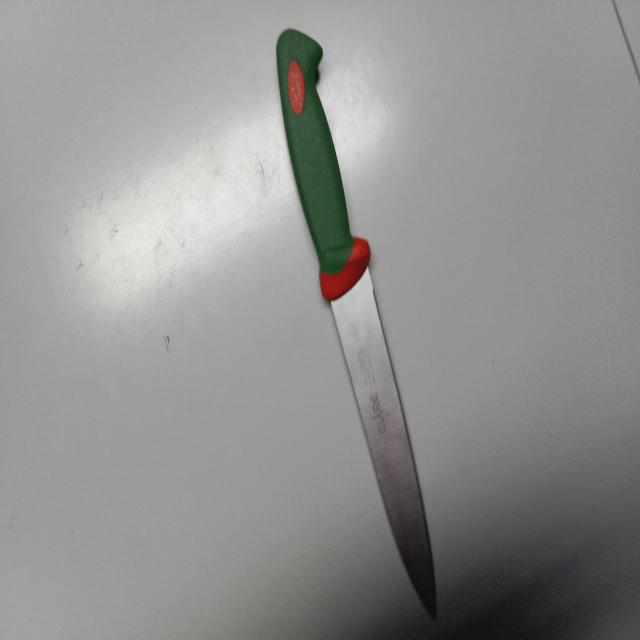Knife: (276, 28, 437, 619)
